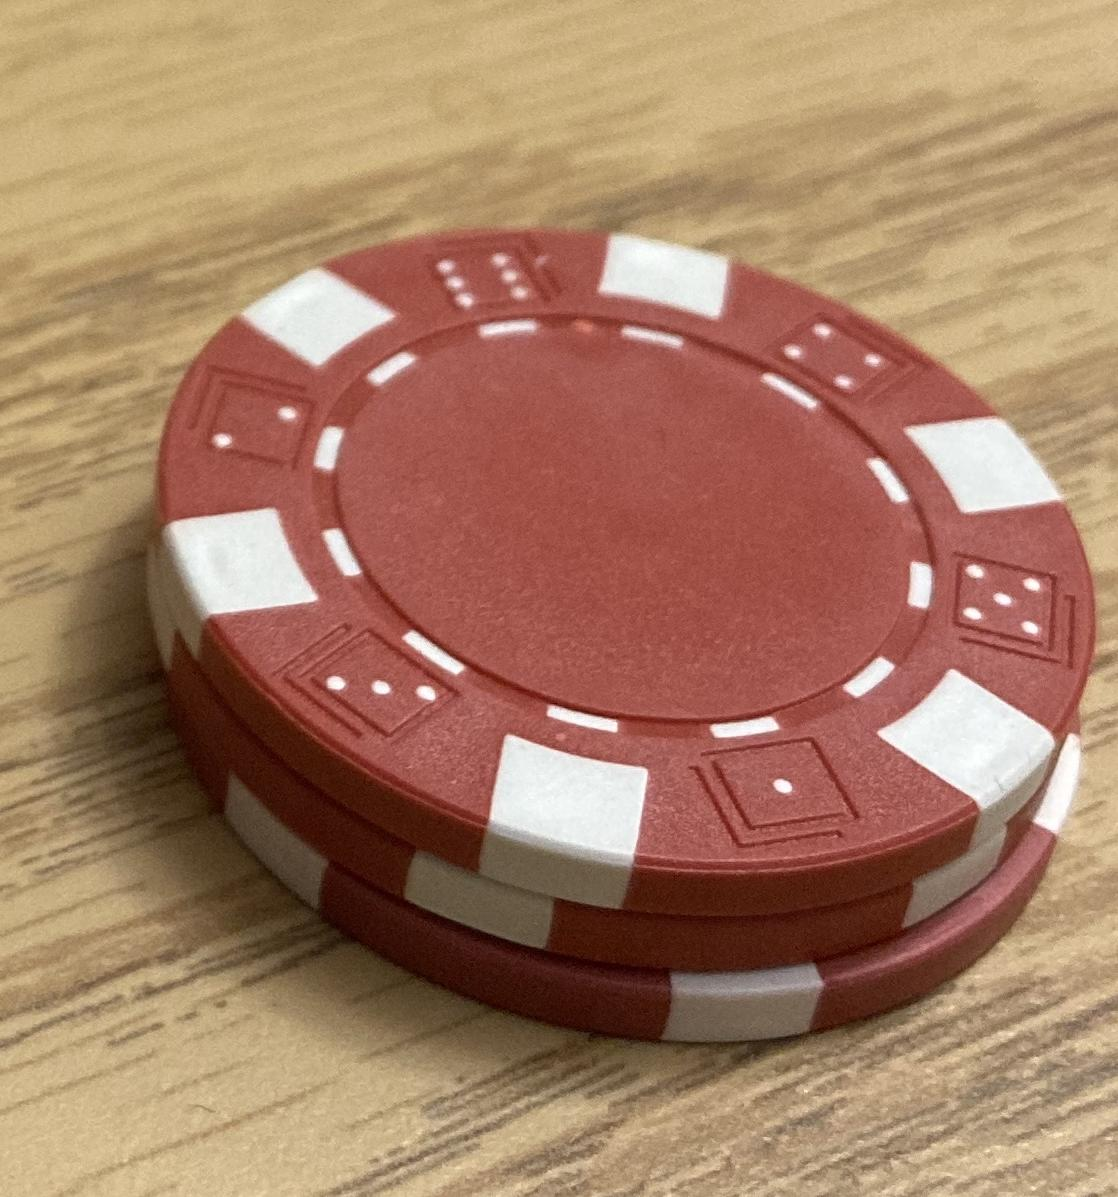Chip: (1, 1, 1118, 1197)
